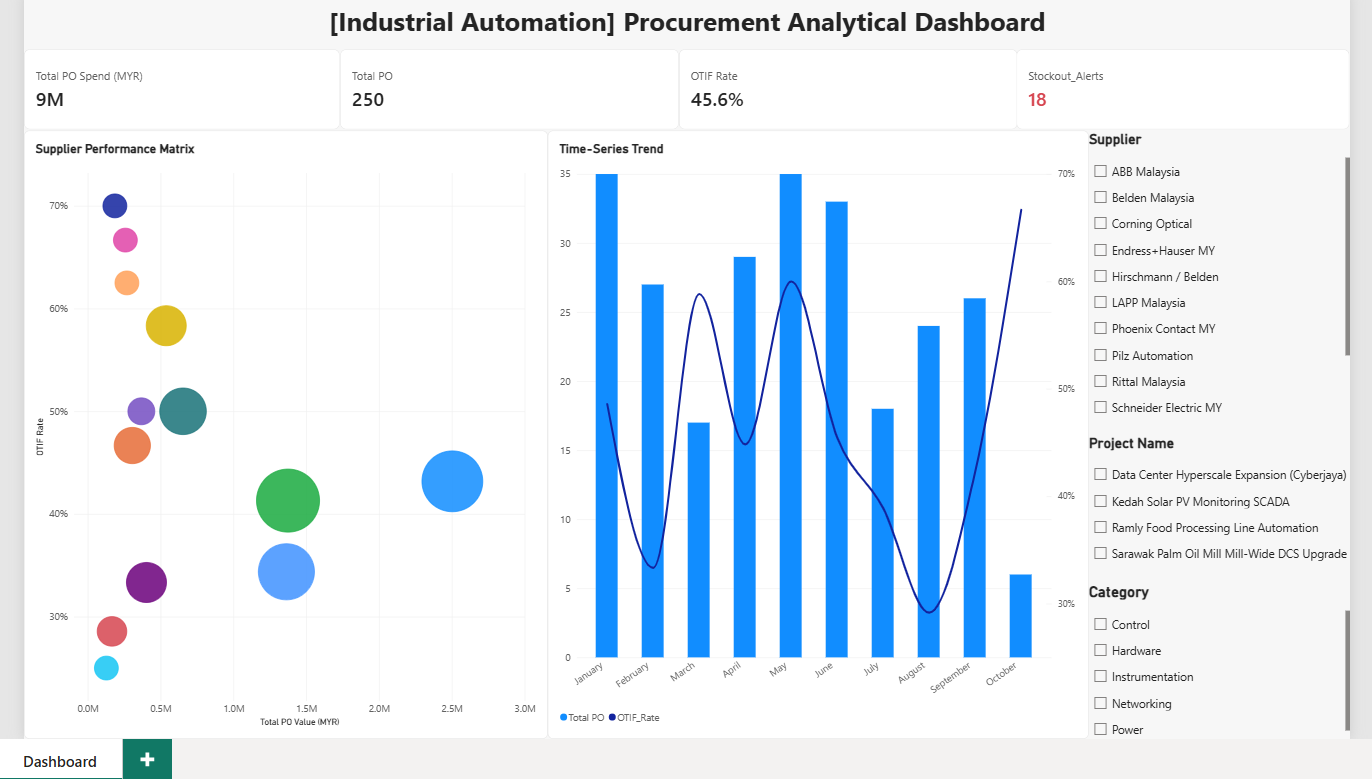

Layout of this report page (visuals, bound fields, positions):
{"tool":"powerbi","page":{"name":"Dashboard","canvas":[1920,1080],"ordinal":0},"visuals":[{"type":"cardVisual","fields":{"Data":["Sum(PO_Transactions1.Total_PO_Value_MYR)"]},"box":[0,82.3,457.5,116.8],"z":0},{"type":"cardVisual","fields":{"Data":["PO_Transactions1.Total PO"]},"box":[457.5,82.3,490,116.8],"z":1000},{"type":"cardVisual","fields":{"Data":["PO_Transactions1.OTIF_Rate"]},"box":[947.6,82.3,490,116.8],"z":2000},{"type":"cardVisual","fields":{"Data":["PO_Transactions1.Stockout_Alerts"]},"box":[1437.6,82.3,482.4,116.8],"z":3000},{"type":"scatterChart","title":"Supplier Performance Matrix","fields":{"Series":["PO_Transactions1.Supplier_Name"],"Size":["PO_Transactions1.Delayed_Count"],"X":["Sum(PO_Transactions1.Total_PO_Value_MYR)"],"Y":["PO_Transactions1.OTIF_Rate"]},"box":[0,199.1,758,880.6],"z":4000},{"type":"lineClusteredColumnComboChart","title":"Time-Series Trend","fields":{"Category":["PO_Transactions1.PO_Date.Variation.Date Hierarchy.Month"],"Y":["PO_Transactions1.Total PO"],"Y2":["PO_Transactions1.OTIF_Rate"]},"box":[758,199.1,782.9,880.6],"z":4001},{"type":"slicer","title":"Supplier","fields":{"Values":["PO_Transactions1.Supplier_Name"]},"box":[1541,199.1,379,415.4],"z":4002},{"type":"slicer","title":"Project Name","fields":{"Values":["PO_Transactions1.Project_Name"]},"box":[1541,639.4,379,214.4],"z":4003},{"type":"slicer","title":"Category","fields":{"Values":["PO_Transactions1.Category"]},"box":[1541,853.8,379,225.9],"z":4004},{"type":"textbox","box":[0,15.3,1920,126.3],"z":4006}]}

Visuals, with their boxes on the page's 1920x1080 design canvas (x1, y1, x2, y2). These are canvas units, not pixel positions in the 1372x779 screenshot, which may show the page scaled, cropped or inside an application window:
cardVisual - Sum(PO_Transactions1.Total_PO_Value_MYR): pyautogui.locateOnScreen(0, 82, 458, 199)
cardVisual - PO_Transactions1.Total PO: pyautogui.locateOnScreen(458, 82, 948, 199)
cardVisual - PO_Transactions1.OTIF_Rate: pyautogui.locateOnScreen(948, 82, 1438, 199)
cardVisual - PO_Transactions1.Stockout_Alerts: pyautogui.locateOnScreen(1438, 82, 1920, 199)
"Supplier Performance Matrix" scatterChart: pyautogui.locateOnScreen(0, 199, 758, 1080)
"Time-Series Trend" lineClusteredColumnComboChart: pyautogui.locateOnScreen(758, 199, 1541, 1080)
"Supplier" slicer: pyautogui.locateOnScreen(1541, 199, 1920, 614)
"Project Name" slicer: pyautogui.locateOnScreen(1541, 639, 1920, 854)
"Category" slicer: pyautogui.locateOnScreen(1541, 854, 1920, 1080)
textbox: pyautogui.locateOnScreen(0, 15, 1920, 142)
